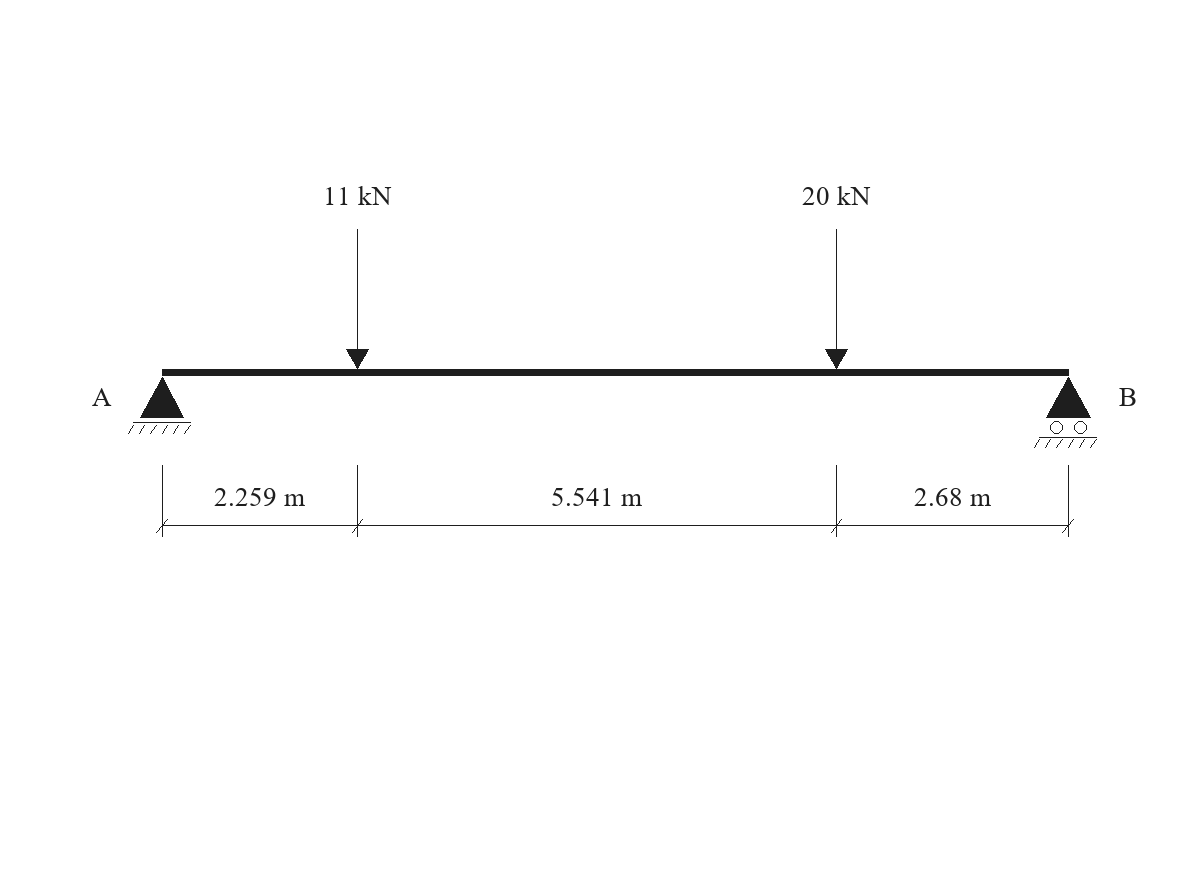pin_support: (128, 377, 191, 434)
point_load: (346, 229, 369, 369), (825, 229, 848, 369)
roller_support: (1034, 377, 1097, 448)
